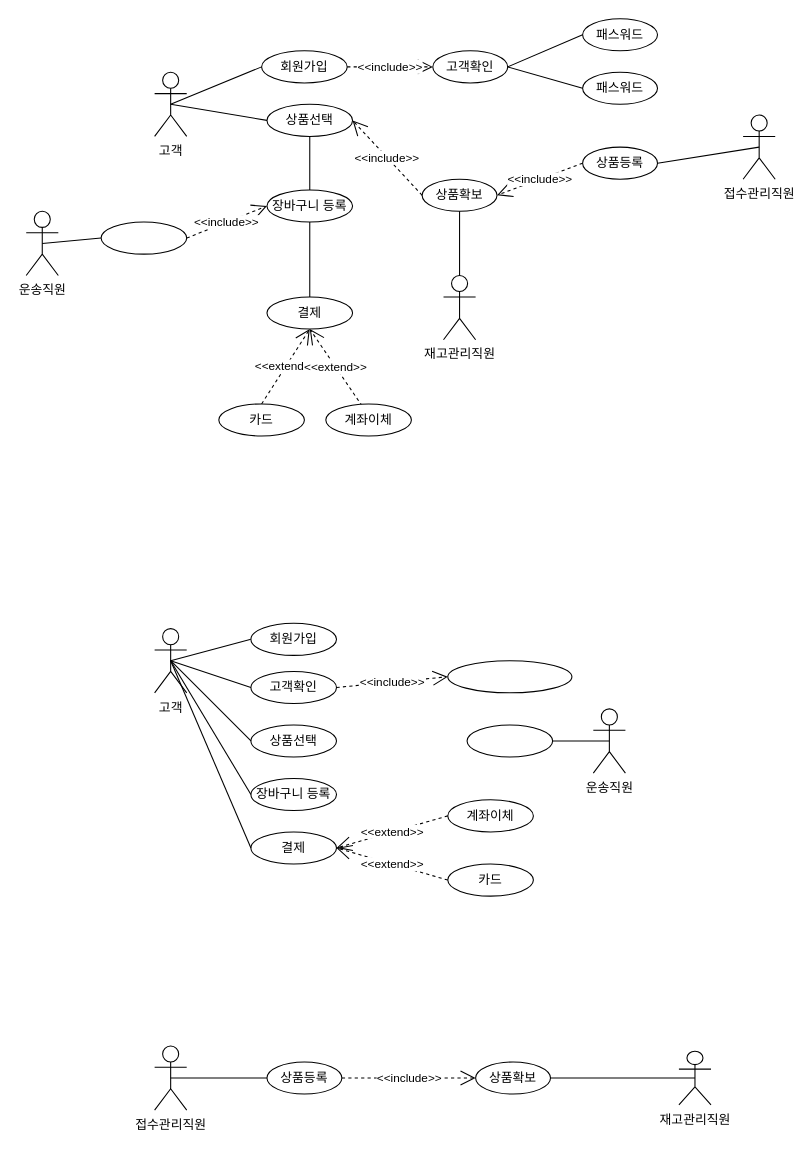
This 812x1151 diagram has some shape labels left out. Here are the shapes that lost their labels. From the top down, the centre of each, then its label:
At point 143,237: "배달".
At point 509,676: "아이디/비번".
At point 509,740: "상품배송".
